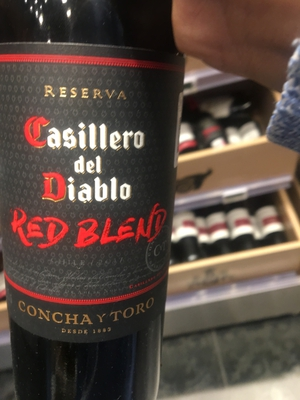casillero del diablo red blend: (1, 30, 178, 383)
